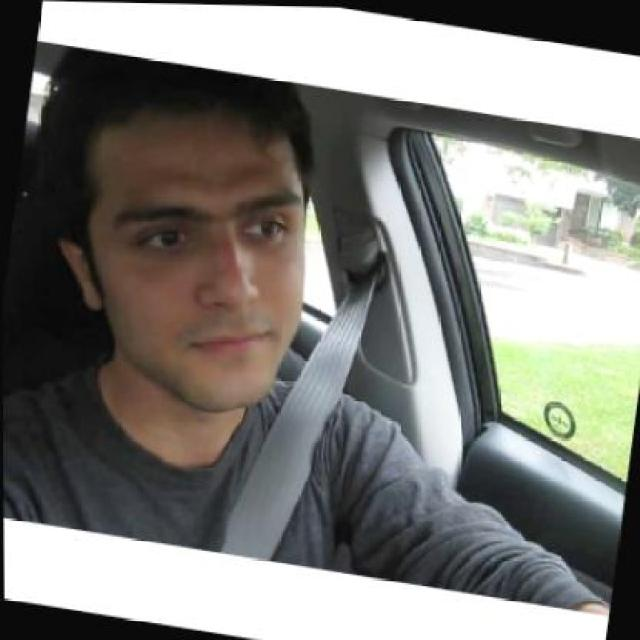attentif: (31, 45, 332, 422)
